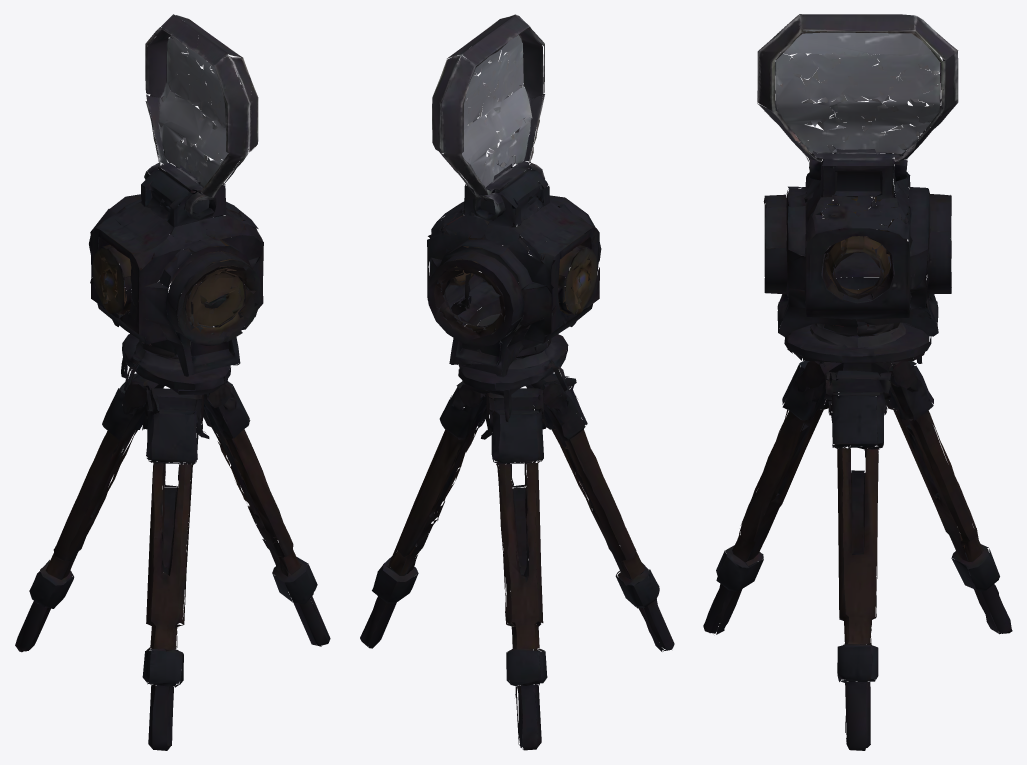
The model's file is prop-landing-beacon-lod0.glb.
3 views of the same model, side by side, from view 1: azimuth 30°, elevation 25°; view 2: azimuth 150°, elevation 25°; view 3: azimuth 270°, elevation 25° (orthographic). The views are drawn at different scales.
Parts seen in each view (by area): view 1: xenovoya_runtime_asset; view 2: xenovoya_runtime_asset; view 3: xenovoya_runtime_asset.
Part boxes in pixels (box(x1,y1,x2,y2)): xenovoya_runtime_asset: box(15, 14, 330, 750); xenovoya_runtime_asset: box(360, 14, 674, 750); xenovoya_runtime_asset: box(703, 14, 1012, 750).
Size of the model in its own units: 0.2724 by 0.683 by 0.2838.
Materials: 1 (1 with a texture image).
